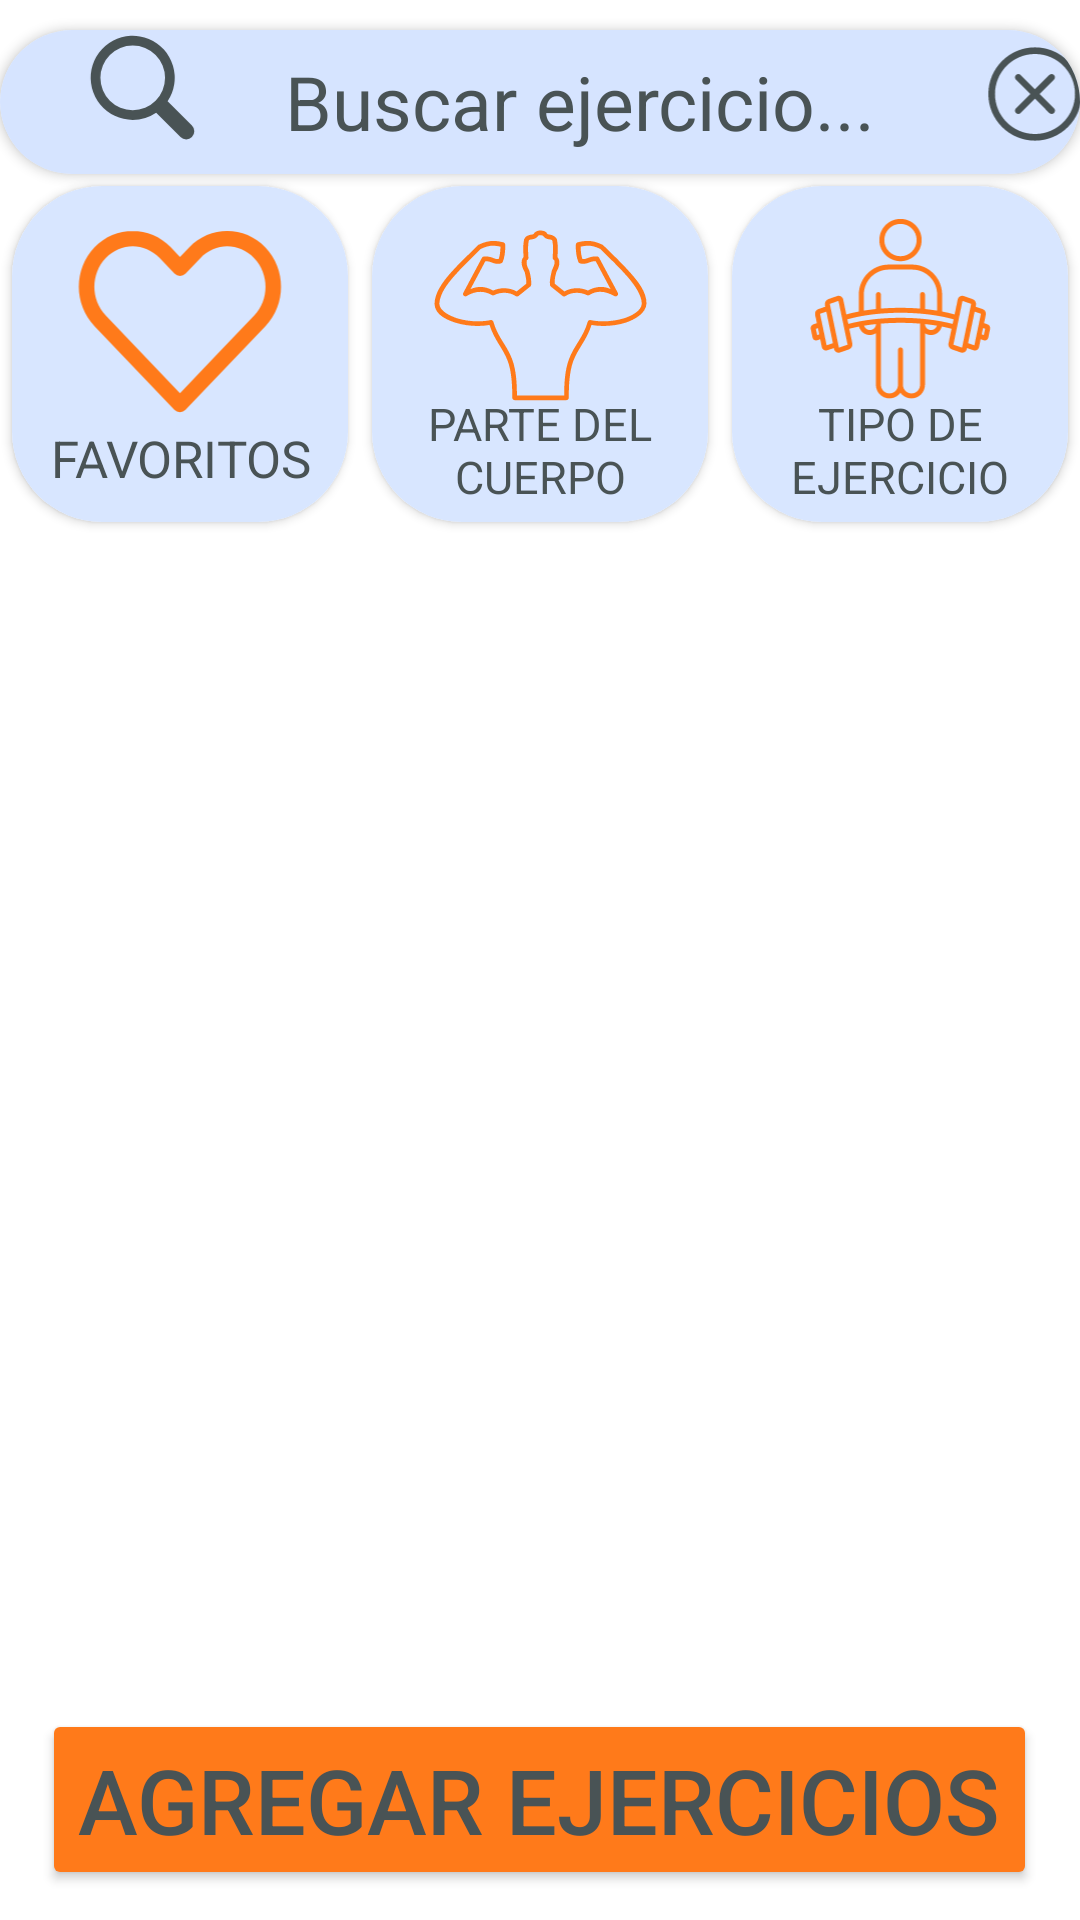

Screen size 1080 × 1920. Icon name, then its center in pixels as [x,y]:
corazon vacio: [174,360]
lupa: [142,102]
